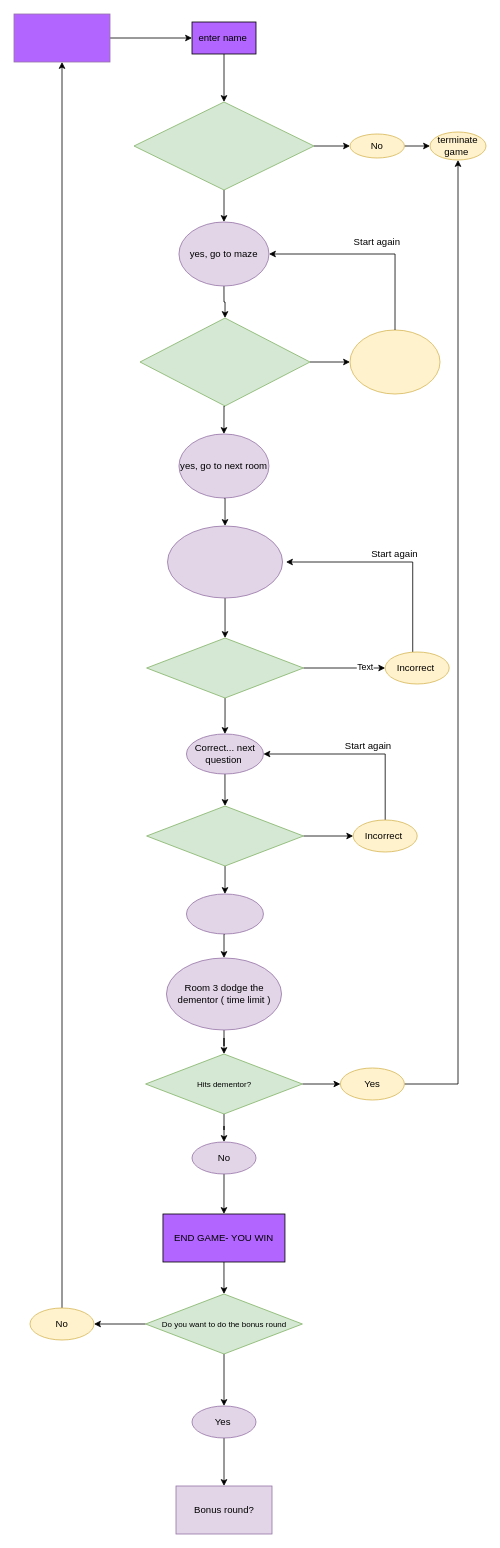
Image size: 500x1548. Some labels were removed from this diagram. The centre of each missing label's shape, as x and y in pixels:
Correct... next room: (x=224, y=913)
First page: Hi my name is harry, what is your name?: (x=61, y=37)
Guess the word: almost like hangman ?: (x=224, y=667)
Instructions - do you accept the challenge?: (x=223, y=145)
Math question for a potion: (x=224, y=835)
No (Hit object): (x=394, y=361)
Room 1: Start of Maze Can find way out of maze?: (x=224, y=361)
Room 2, answering Snapes questions to escape the dungeon: (x=225, y=561)
